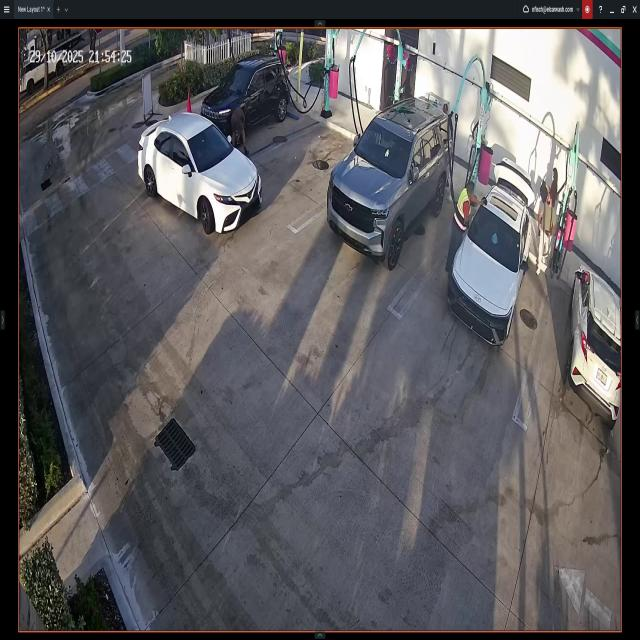Car: (326, 96, 454, 265), (450, 162, 534, 350), (137, 111, 262, 231), (570, 264, 622, 427), (204, 58, 290, 124)
